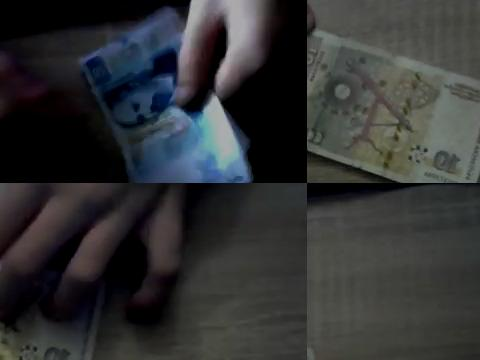10leva: (307, 31, 480, 183), (0, 280, 108, 360)
20leva: (78, 7, 251, 183)
